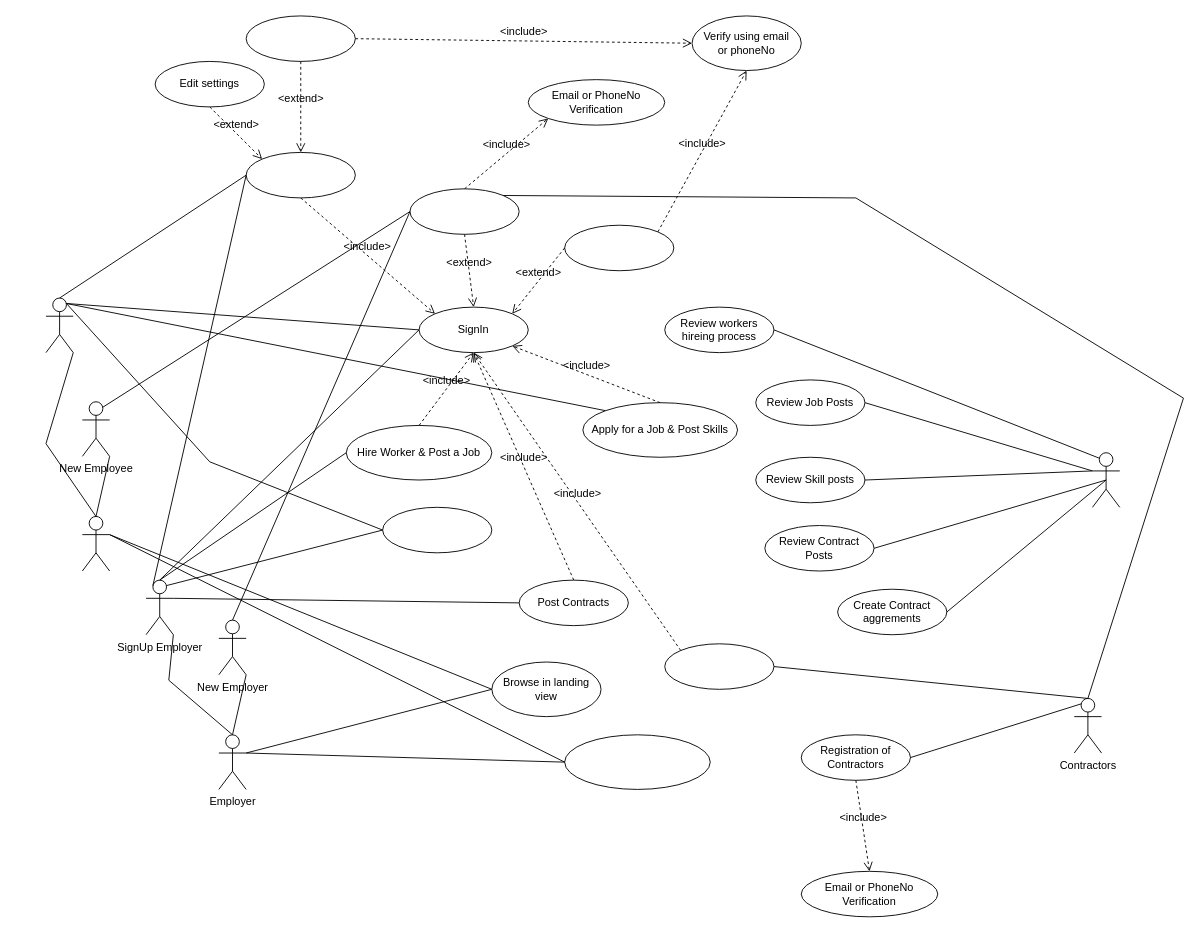
This 1200x933 diagram has some shape labels left out. The centre of each missing label's shape, as x and y in pixels:
Admin: point 1106,479
Bid for Contract: point 719,666
Delete Account: point 300,38
Employee: point 95,543
Forget Password: point 619,247
SignOut: point 437,529
SignUp: point 464,211
SignUp Employee: point 59,325
View User Account: point 300,175
View Workers, Jobs & Contracts: point 637,761
